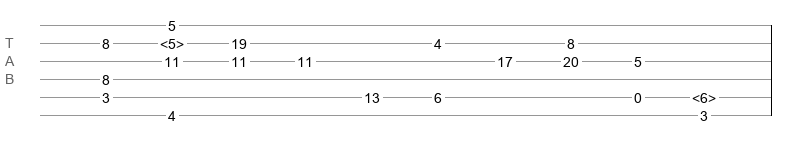0: (634, 90, 642, 100)
11: (164, 54, 180, 64), (231, 54, 247, 64), (297, 54, 313, 64)
13: (364, 90, 380, 100)
17: (497, 54, 513, 64)
19: (231, 36, 247, 46)
20: (563, 54, 579, 64)
3: (102, 90, 110, 100), (700, 108, 708, 118)
4: (168, 108, 176, 118), (434, 36, 442, 46)
5: (168, 18, 176, 28), (634, 54, 642, 64)
6: (434, 90, 442, 100)
8: (102, 36, 110, 46), (102, 72, 110, 82), (567, 36, 575, 46)
harmonic: (160, 36, 184, 46), (692, 90, 716, 100)
